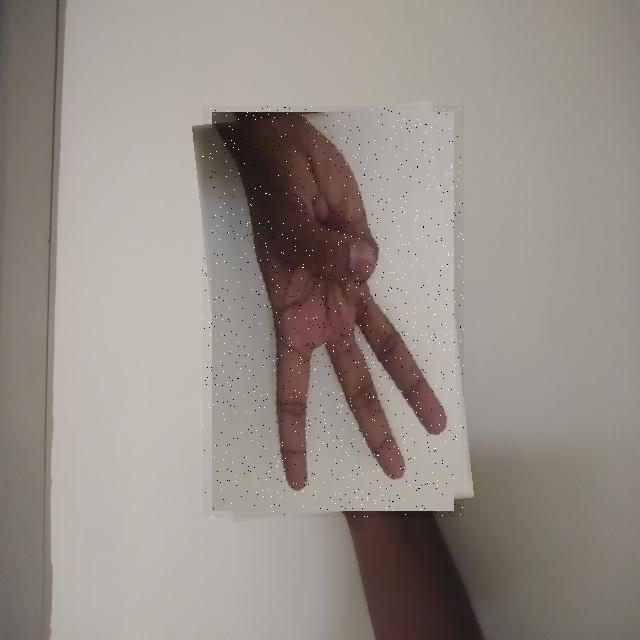Please: (202, 106, 464, 517)
